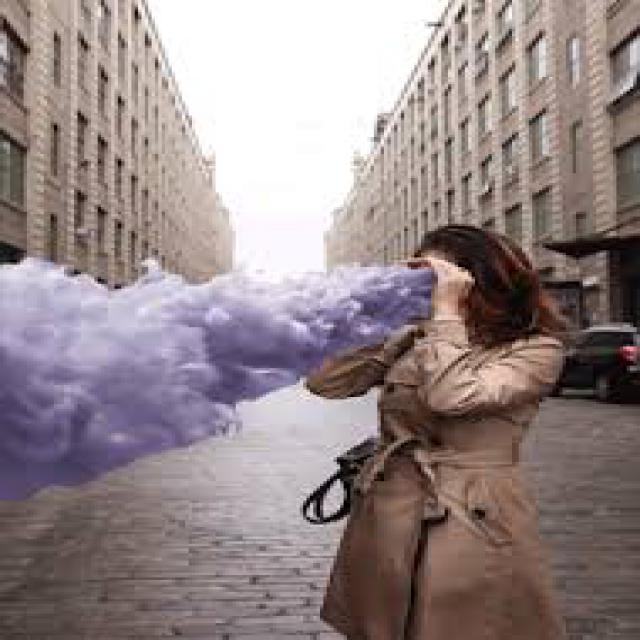smoke: (3, 260, 465, 459)
